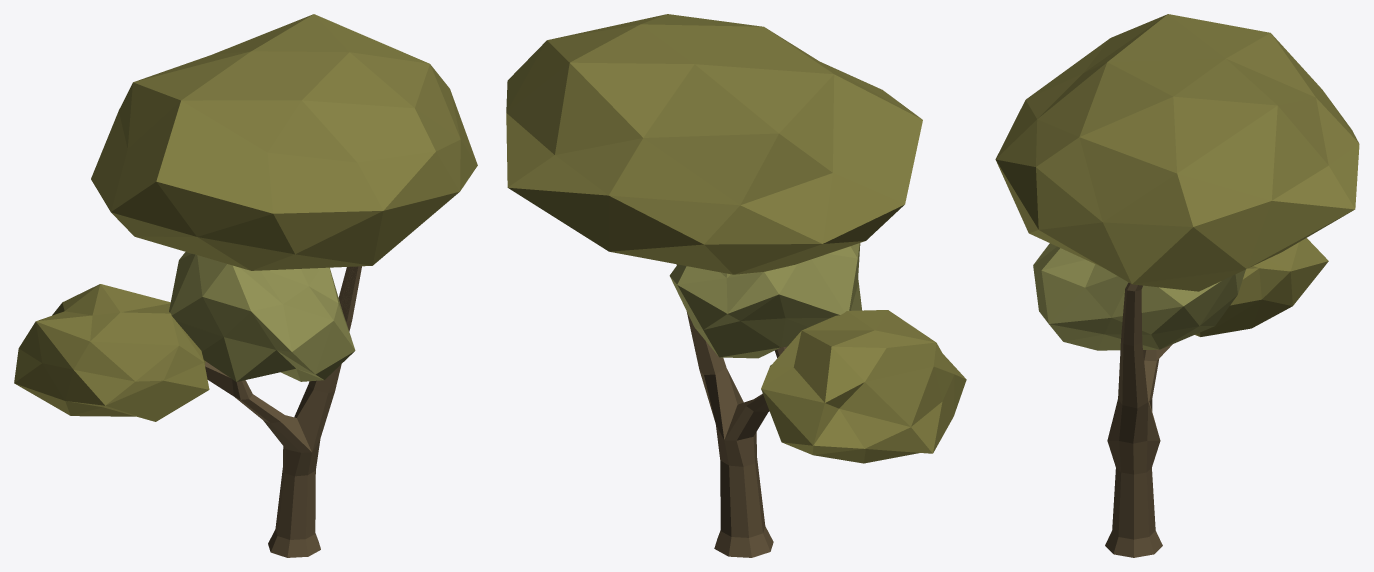
The model's file is enchantedforest_tree_5.fbx.
The picture shows the model from 3 angles, left to right: view 1: azimuth 30°, elevation 25°; view 2: azimuth 150°, elevation 25°; view 3: azimuth 270°, elevation 25°; orthographic projection. The views are drawn at different scales.
Visible parts, largest first — view 1: Icosphere.012, Cylinder.018; view 2: Icosphere.012, Cylinder.018; view 3: Icosphere.012, Cylinder.018.
Part boxes in pixels (x1=…): Icosphere.012: x1=14, y1=14, x2=477, y2=421; Cylinder.018: x1=205, y1=266, x2=361, y2=557; Icosphere.012: x1=506, y1=14, x2=966, y2=463; Cylinder.018: x1=676, y1=264, x2=786, y2=557; Icosphere.012: x1=995, y1=14, x2=1359, y2=350; Cylinder.018: x1=1105, y1=282, x2=1172, y2=557.
Bounding box in the file's own units: 5.27 × 5.71 × 3.86.
